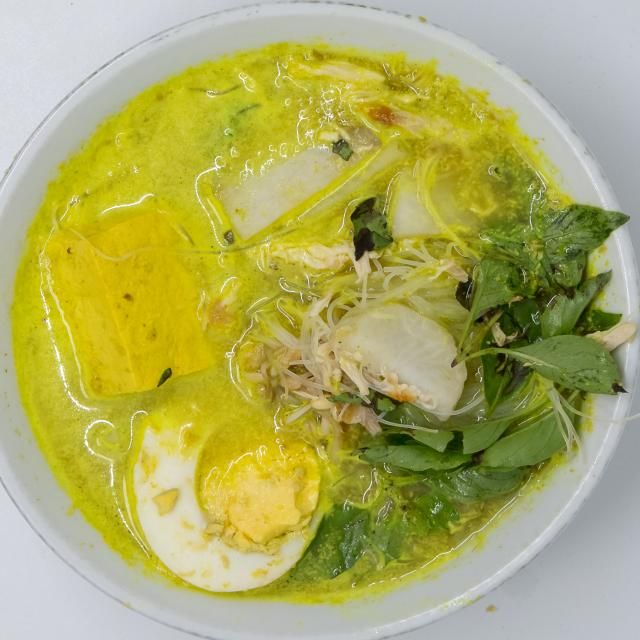Laksa-Bogor: (11, 29, 634, 610)
